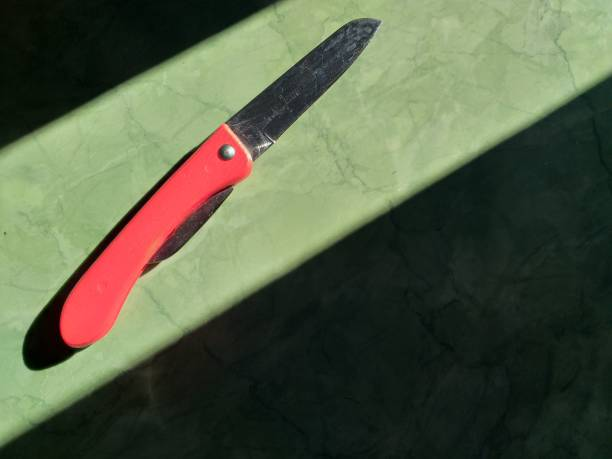knife: (56, 15, 384, 351)
